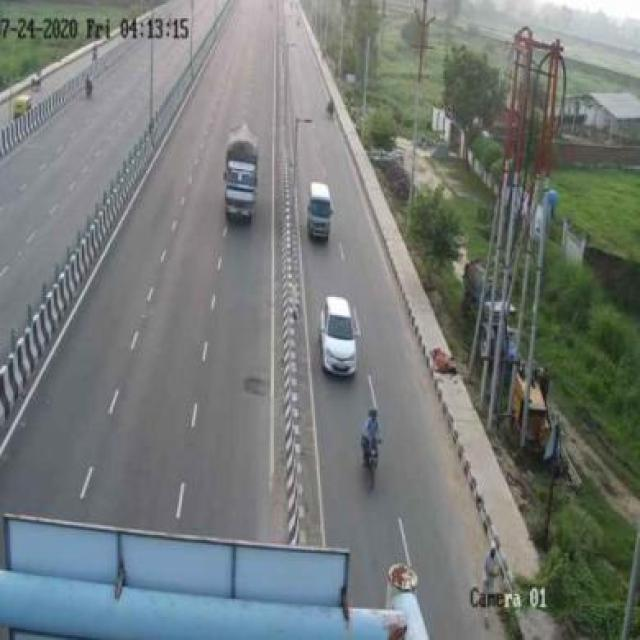car: (308, 292, 371, 382), (306, 172, 336, 255)
